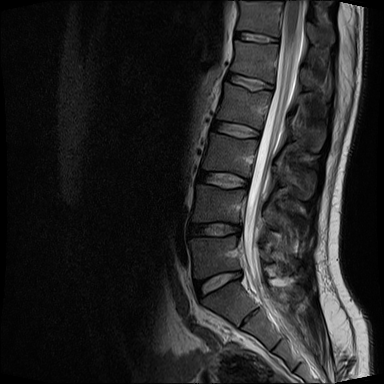Lumbar Disc Bulge (LDB): (187, 265, 245, 303)
Normal IVD: (220, 63, 277, 99), (182, 216, 248, 245), (190, 165, 252, 193), (205, 116, 264, 144), (227, 28, 282, 47)
Spondylolisthesis: (174, 258, 263, 327)
